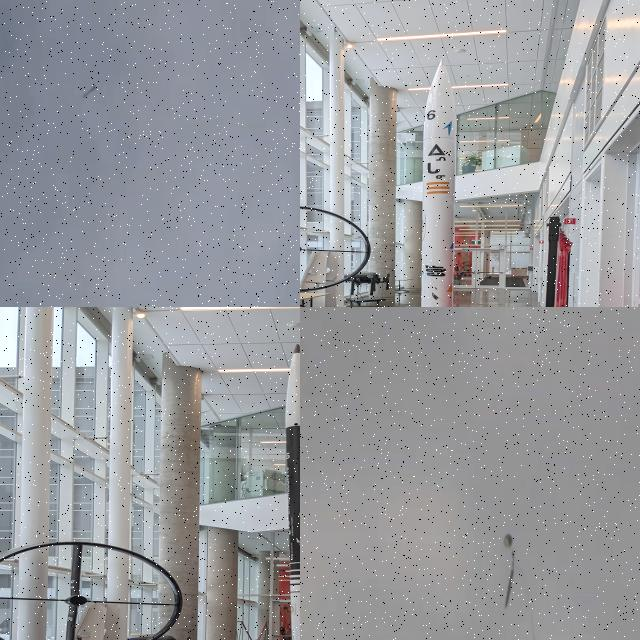Rocket: (421, 59, 457, 307), (285, 344, 300, 640), (82, 84, 96, 98)
